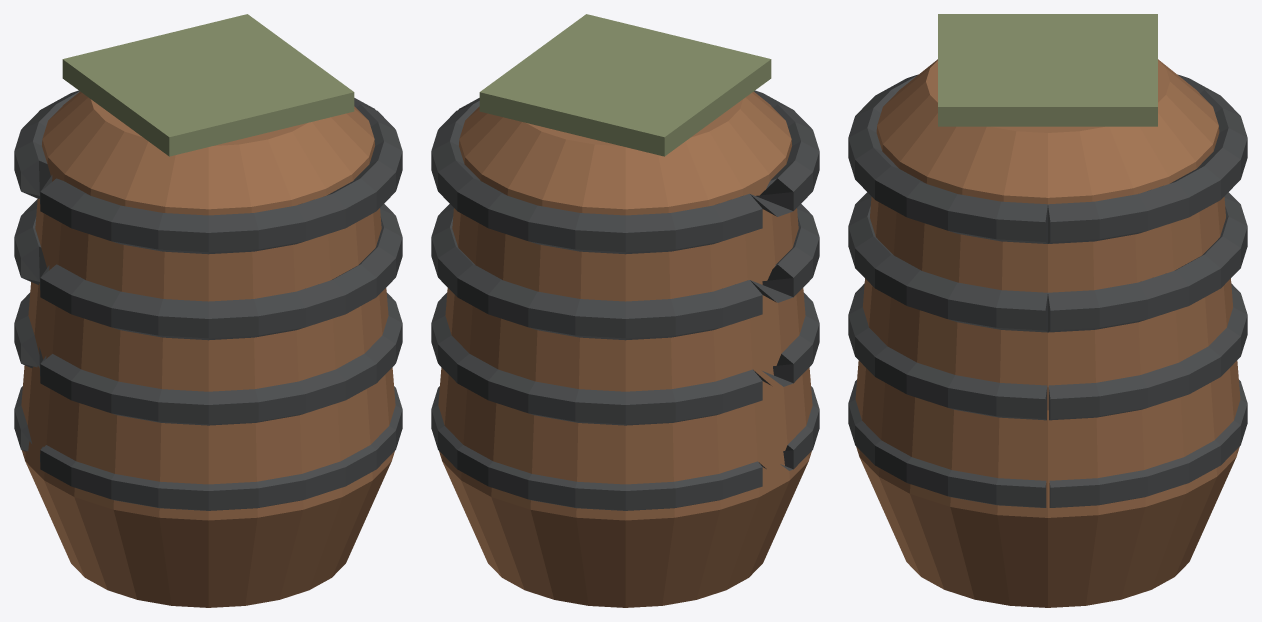
Rendered from spore_filter.glb.
3 renders of one model, left to right at view 1: azimuth 30°, elevation 25°; view 2: azimuth 150°, elevation 25°; view 3: azimuth 270°, elevation 25°, orthographic. The views are drawn at different scales.
Parts seen in each view (by area): view 1: Spore filter • cloth cartridge and brass housing; view 2: Spore filter • cloth cartridge and brass housing; view 3: Spore filter • cloth cartridge and brass housing.
Boxes of the visible parts, box(x1,y1,x2,y2) form: Spore filter • cloth cartridge and brass housing: box(14, 14, 402, 607); Spore filter • cloth cartridge and brass housing: box(431, 14, 819, 607); Spore filter • cloth cartridge and brass housing: box(848, 14, 1247, 607).
Bounding box in the file's own units: 0.327 × 0.439 × 0.3272.
